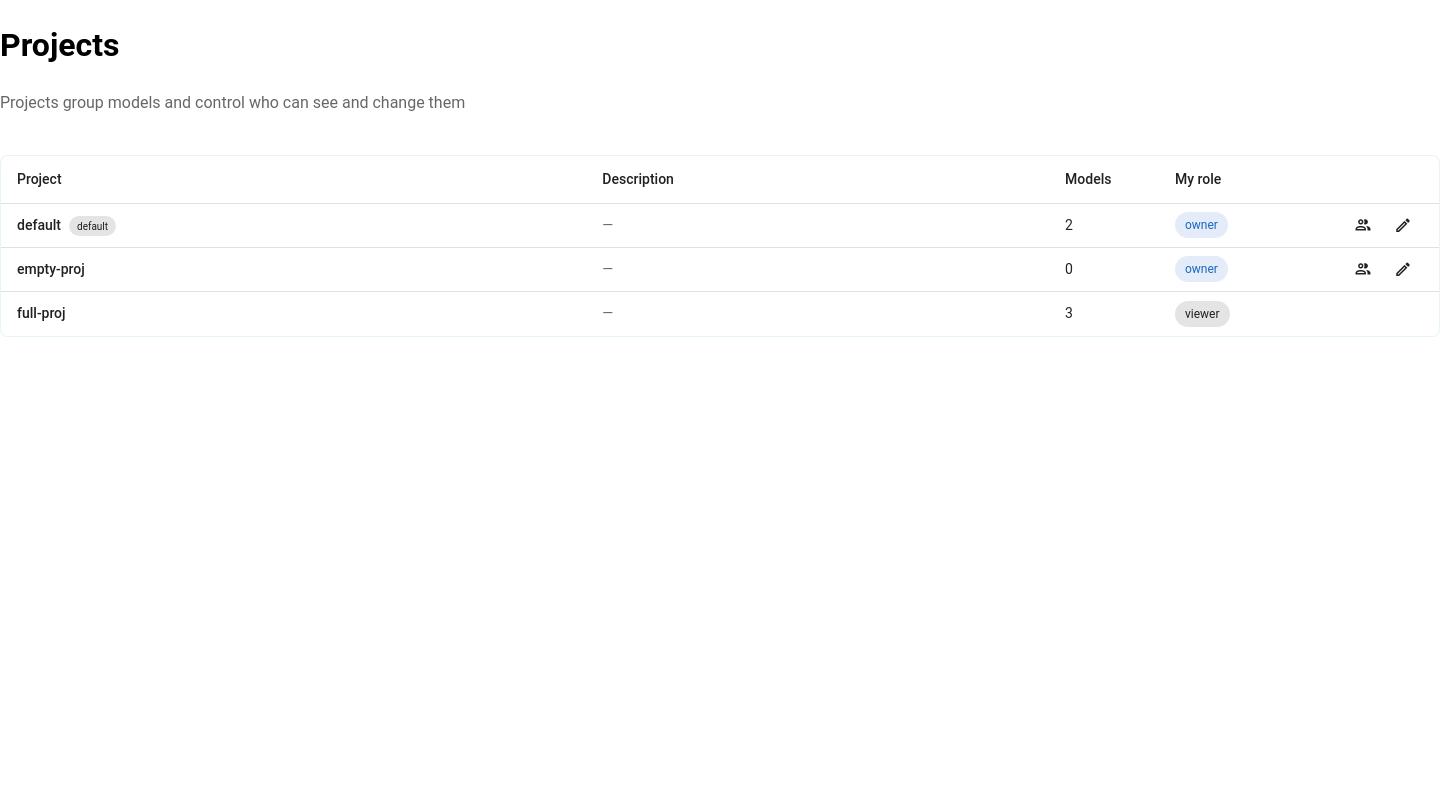
Test: ProjectsPage members › removes a member after confirmation and reports last-owner conflicts
Step 1. Click the button named "Members of empty-proj" → (1363, 269), box [1343, 249, 1383, 289]
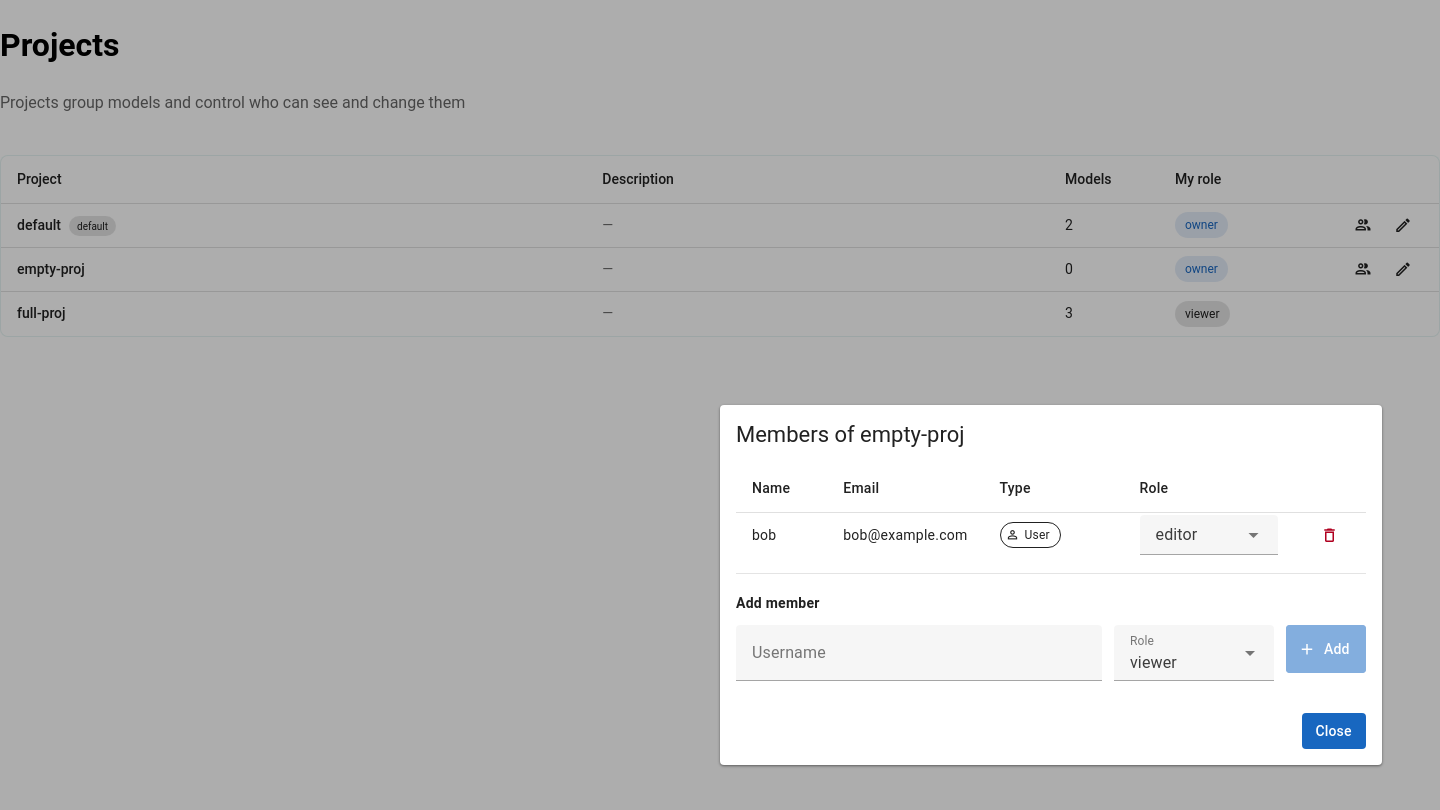
Step 2. Click the button named "Remove bob" → (1330, 535), box [1310, 515, 1350, 555]
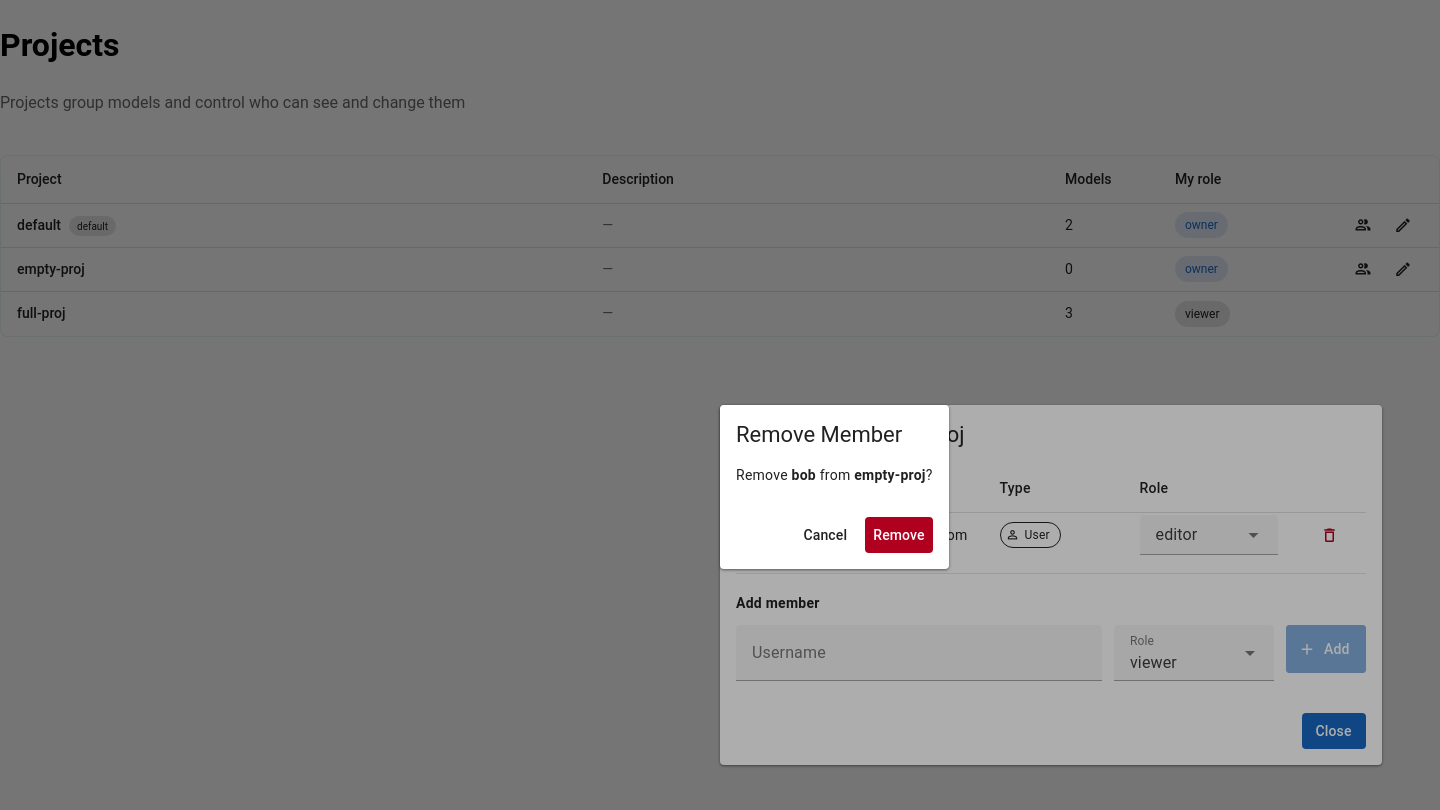
Step 3. Click the button "Remove" → (899, 535), box [865, 517, 933, 553]
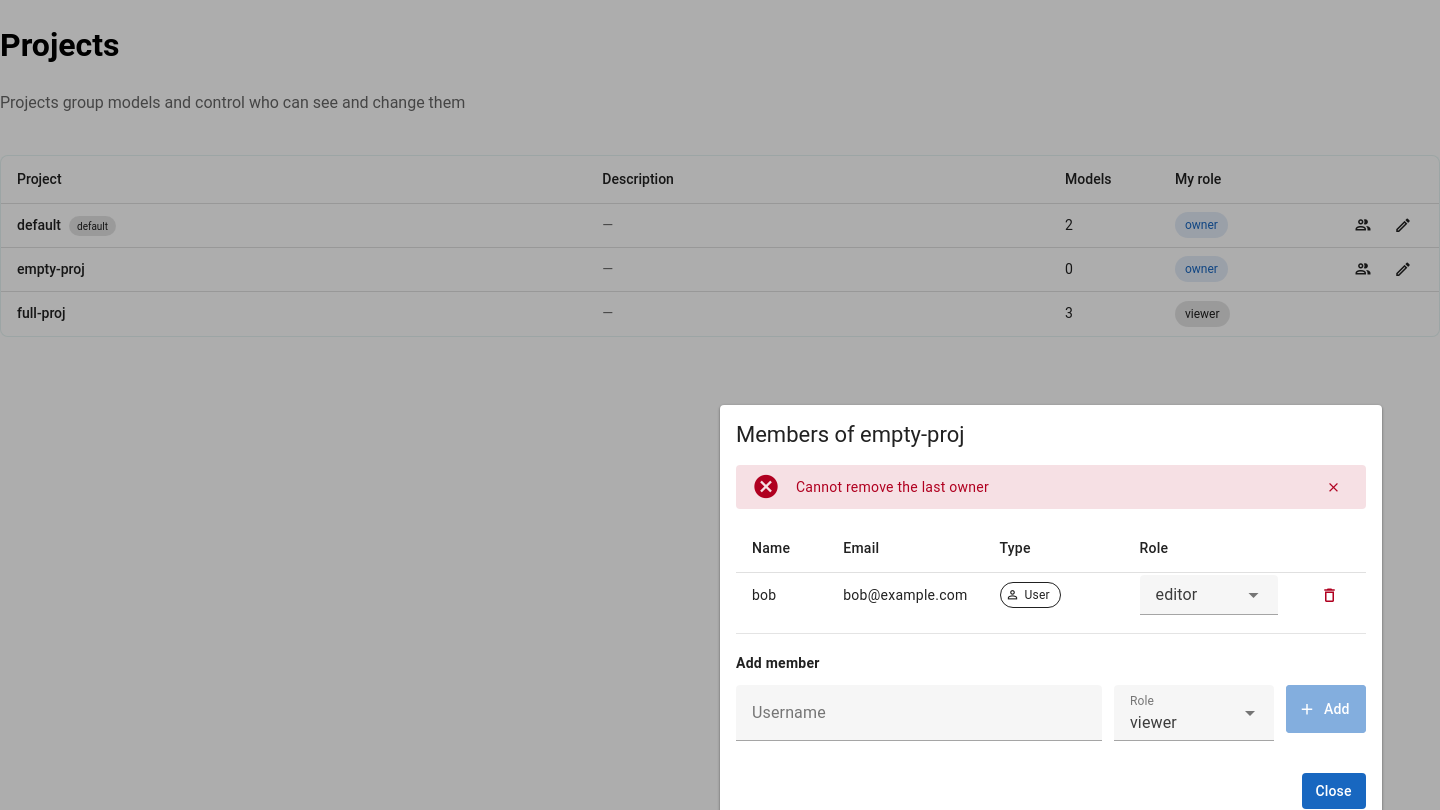
Now the element with test id "members-error" shows "last owner", box [796, 479, 989, 495]
